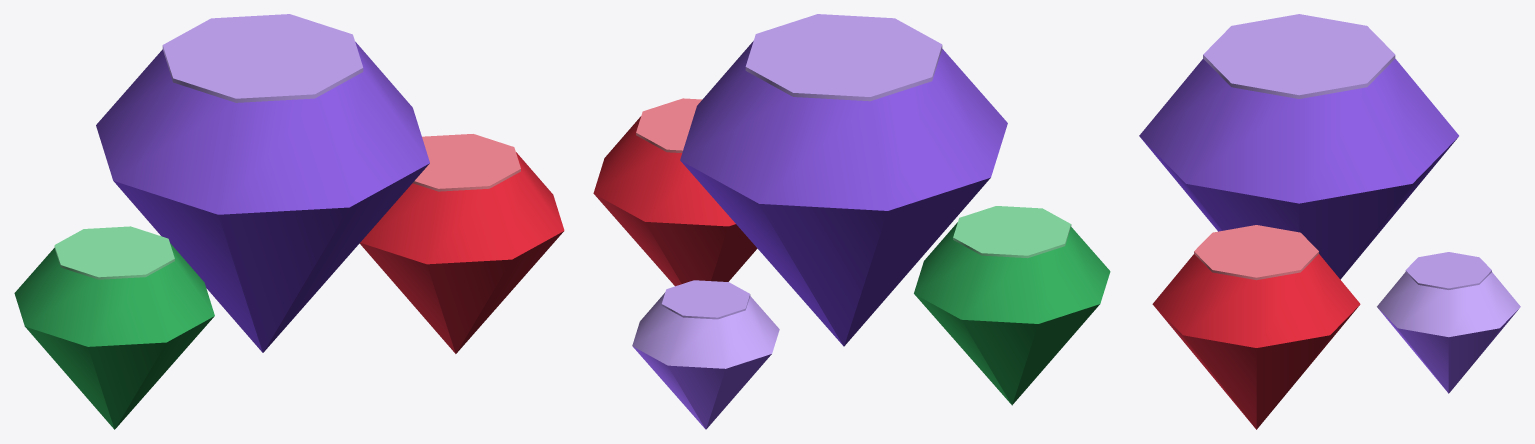
Rendered from GemPile.glb.
3 renders of one model, left to right at view 1: azimuth 30°, elevation 25°; view 2: azimuth 150°, elevation 25°; view 3: azimuth 270°, elevation 25°, orthographic. The views are drawn at different scales.
Visible parts, largest first — view 1: Body; view 2: Body; view 3: Body.
Boxes of the visible parts, x1,y1,x2,y2 form: Body: [14, 14, 564, 429]; Body: [593, 14, 1110, 429]; Body: [1139, 14, 1520, 429].
Bounding box in the file's own units: 2.59 × 1.61 × 1.79.
Materials: 1 (1 with a texture image).
